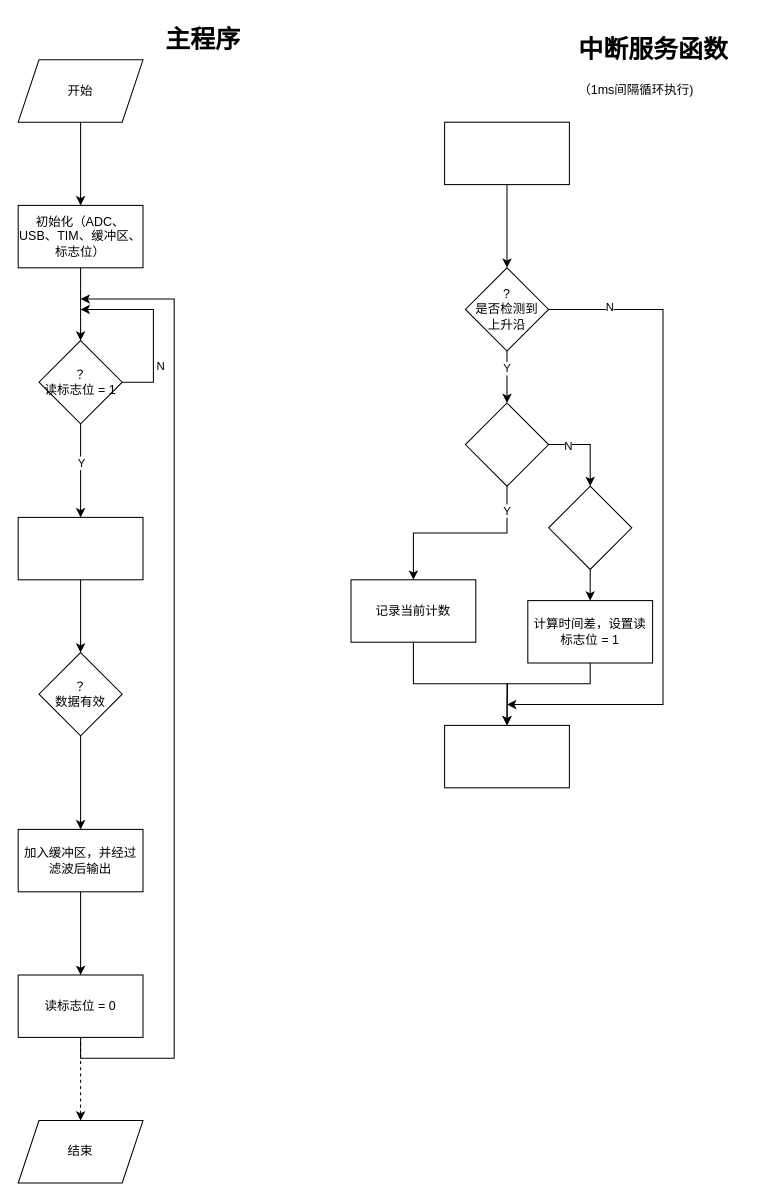
Some shapes in this 782 by 1201 pixel diagram are drawn without their labels. The shapes that lost their labels are listed below. From the top down, each one's centre as x and y in pixels, then its label:
At [506,153]: "读ADC".
At [506,444]: "? 是否第一次 上升沿".
At [590,527]: "？ 是否第二次 上升沿".
At [80,548]: "计算心率".
At [506,756]: "更新状态".
